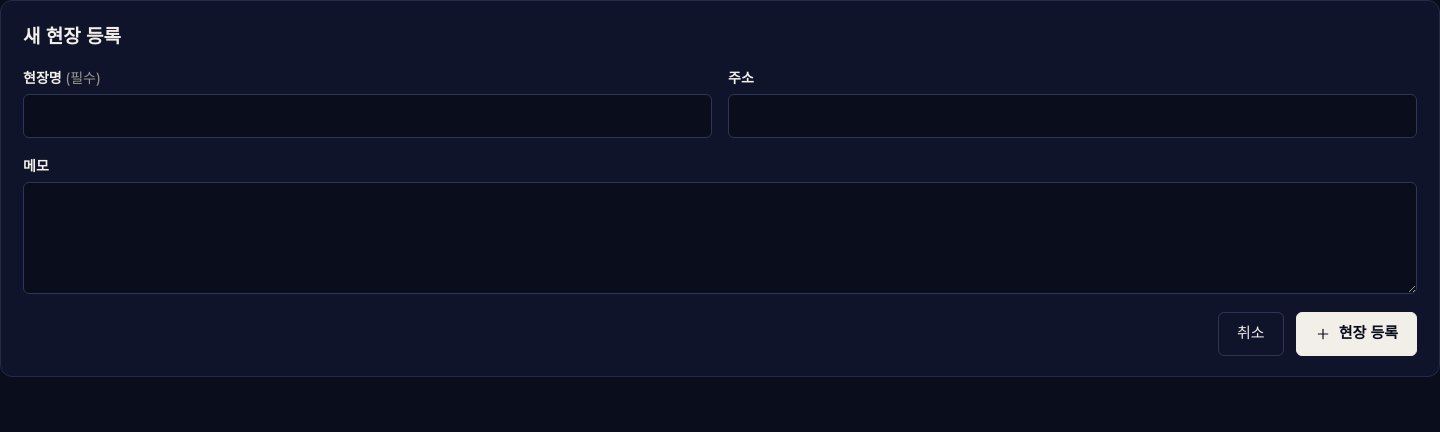
Test: NewSiteCard 동작 (지난 새 현장 폼에서 옮김) › 저장에 실패하면 이동하지 않고 안내(role=alert, err 색)를 띄우며 버튼을 다시 쓸 수 있다
Type "중복" into the field labelled "현장명 (필수)".
click(368, 116); type("중복")  # box [23,94,712,138]
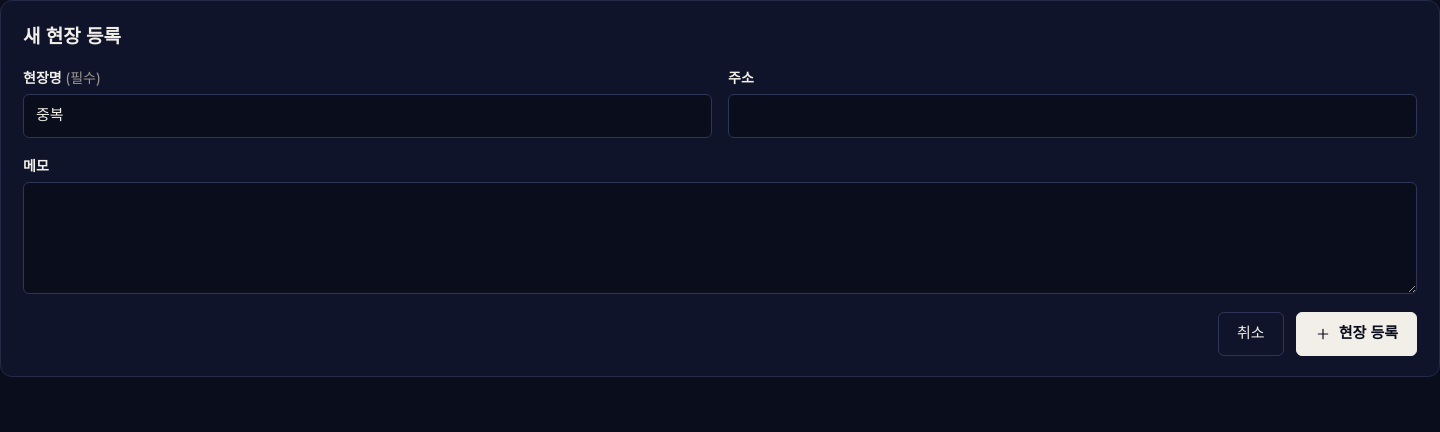
Click the button "현장 등록".
click(1356, 334)  # box [1296,312,1417,356]
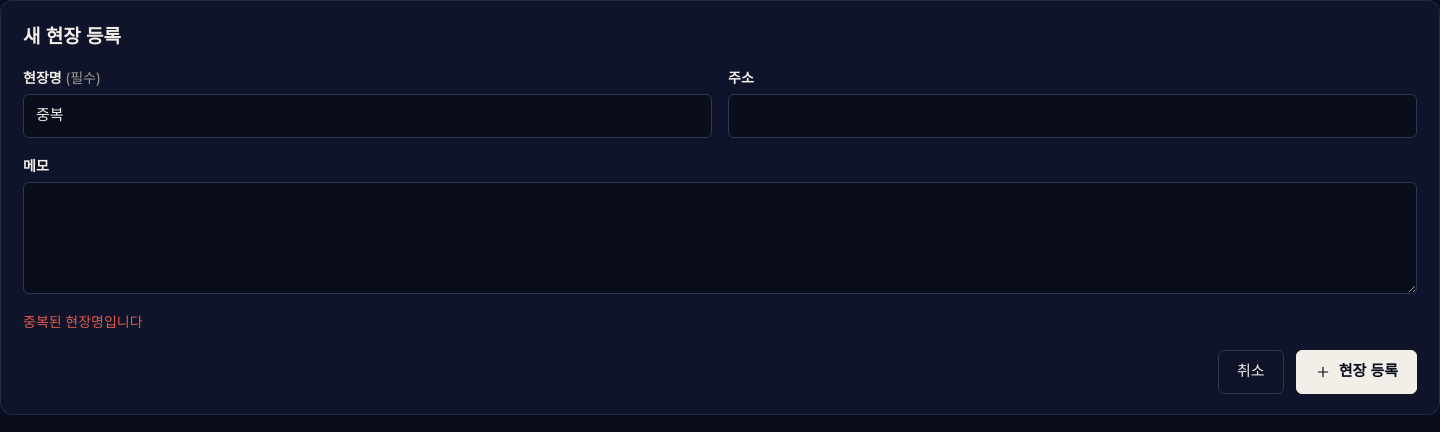
Expected: the button "현장 등록" is enabled, [1296,350,1417,394]
Expected: the message reads "중복된 현장명입니다", [23,312,143,330]
